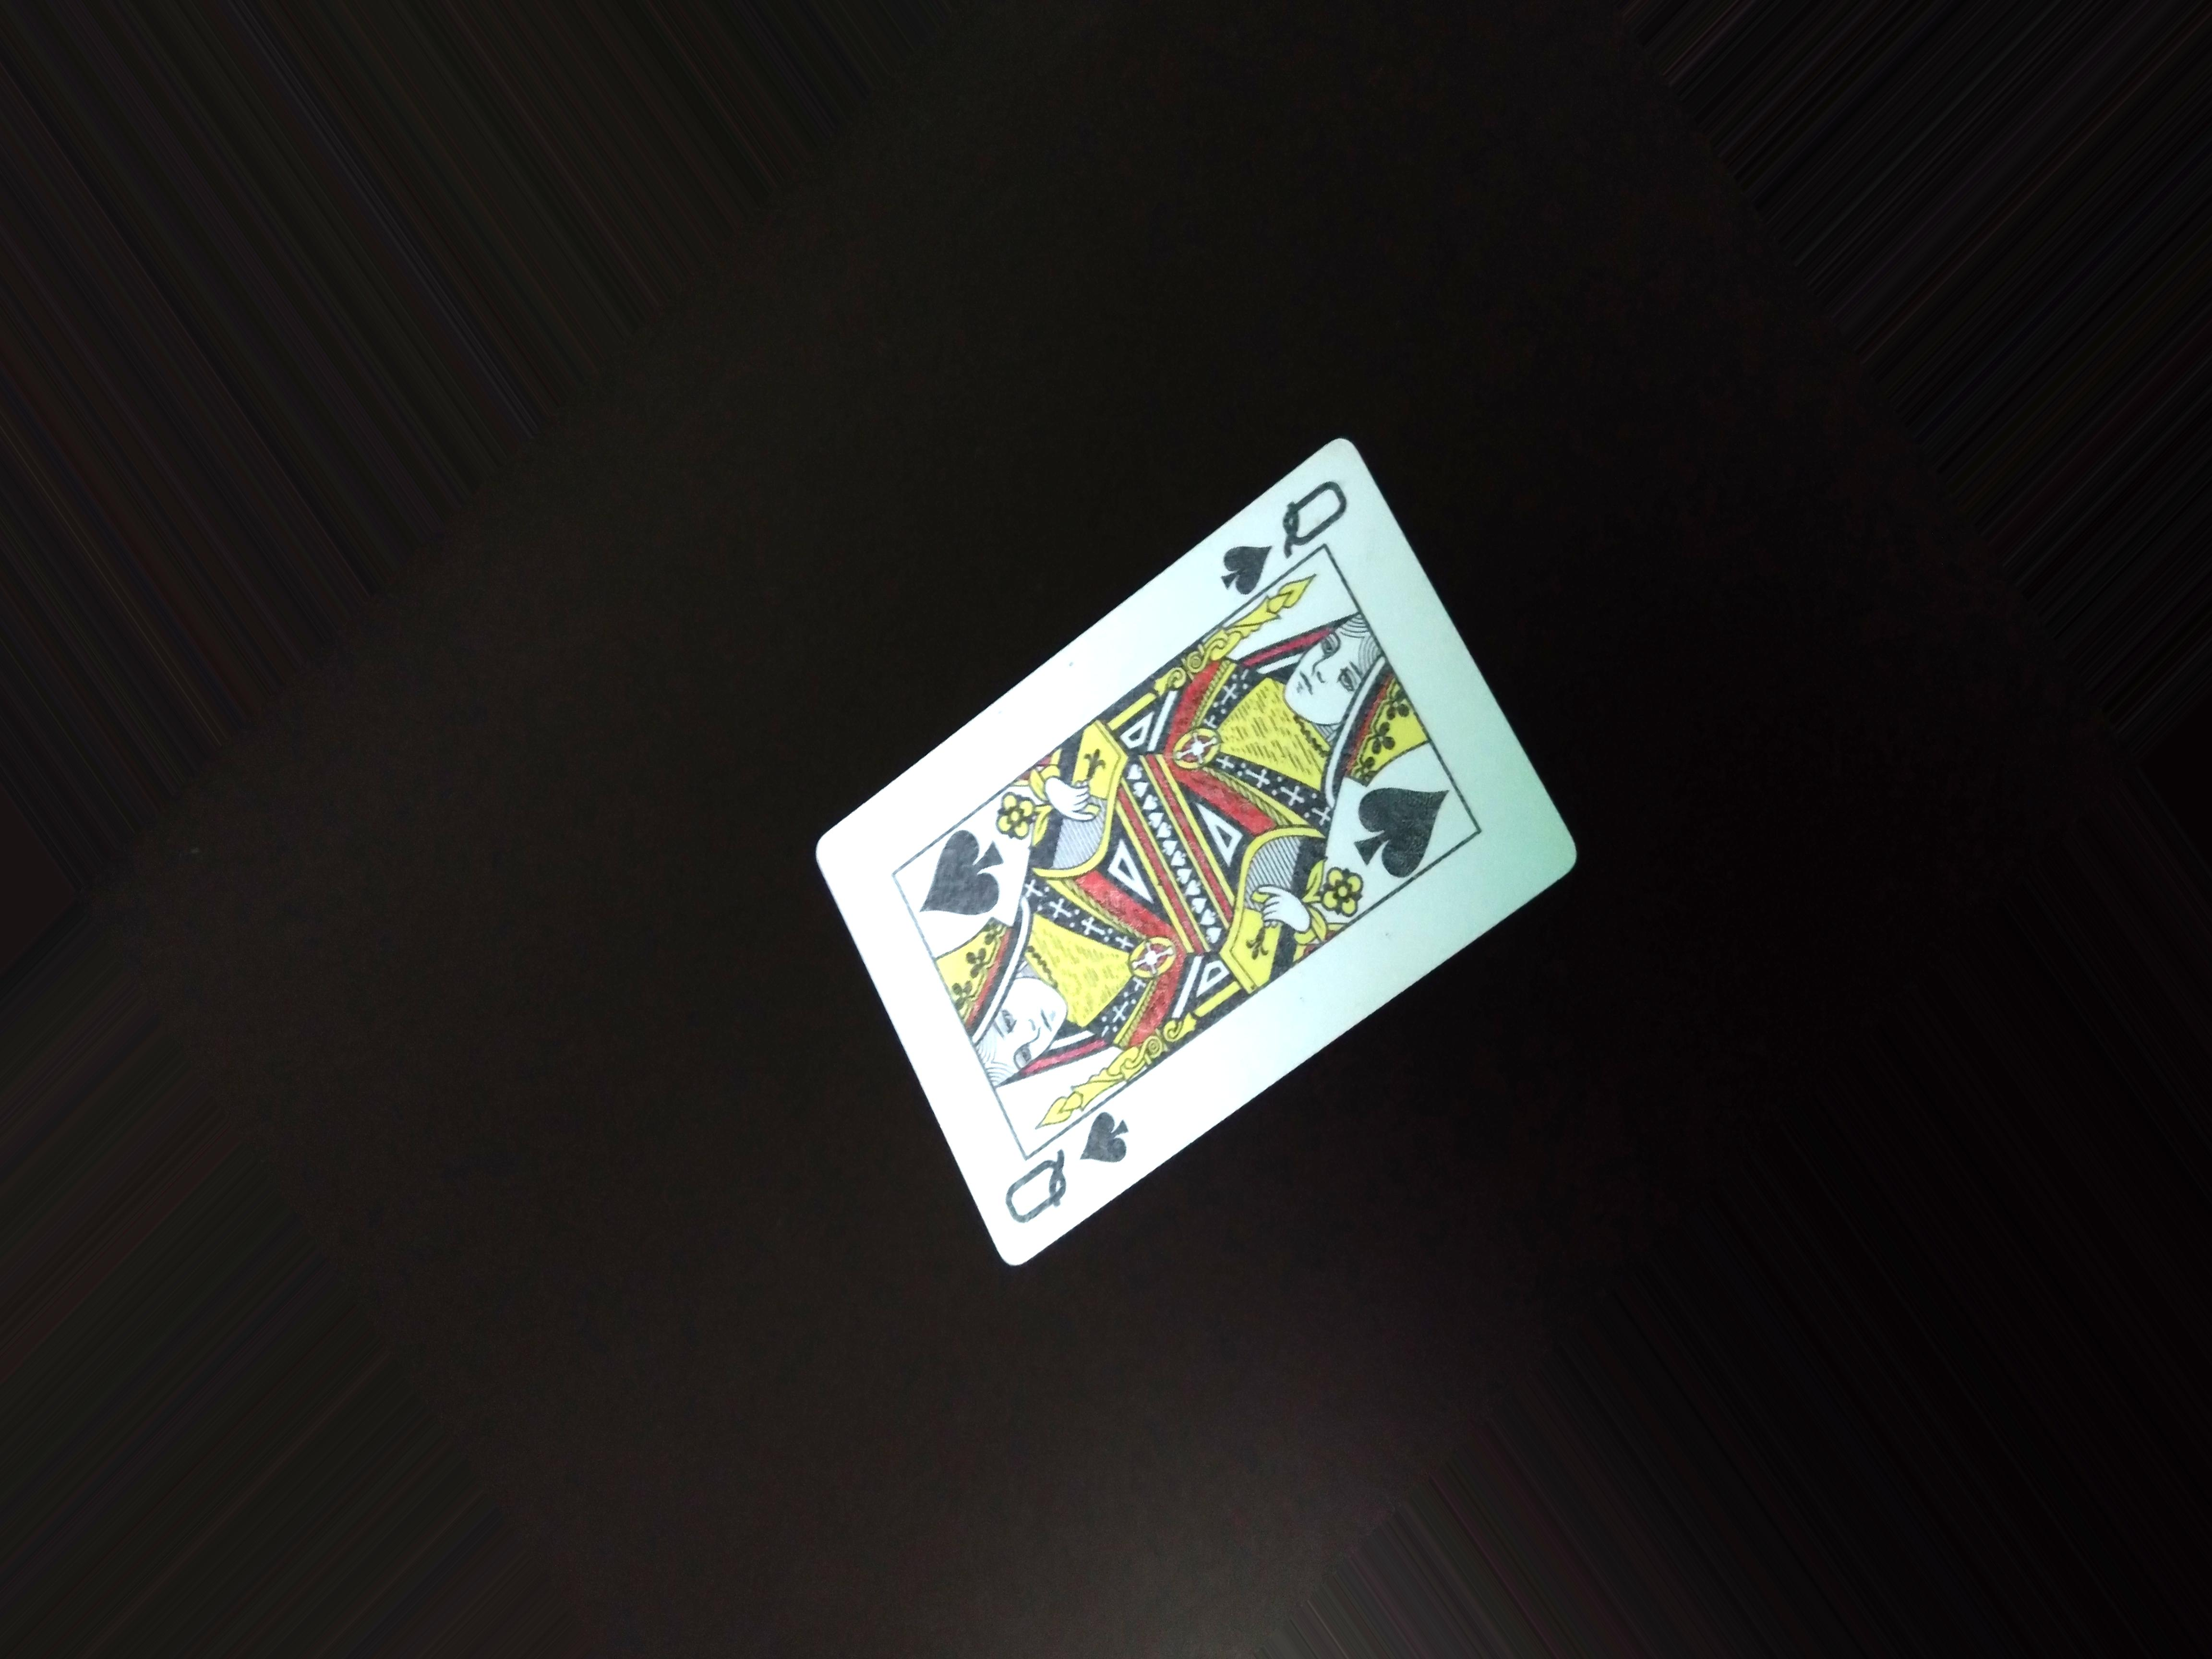QS: (1212, 462, 1345, 606)
